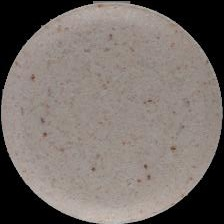0615-7869: (0, 0, 224, 224)
